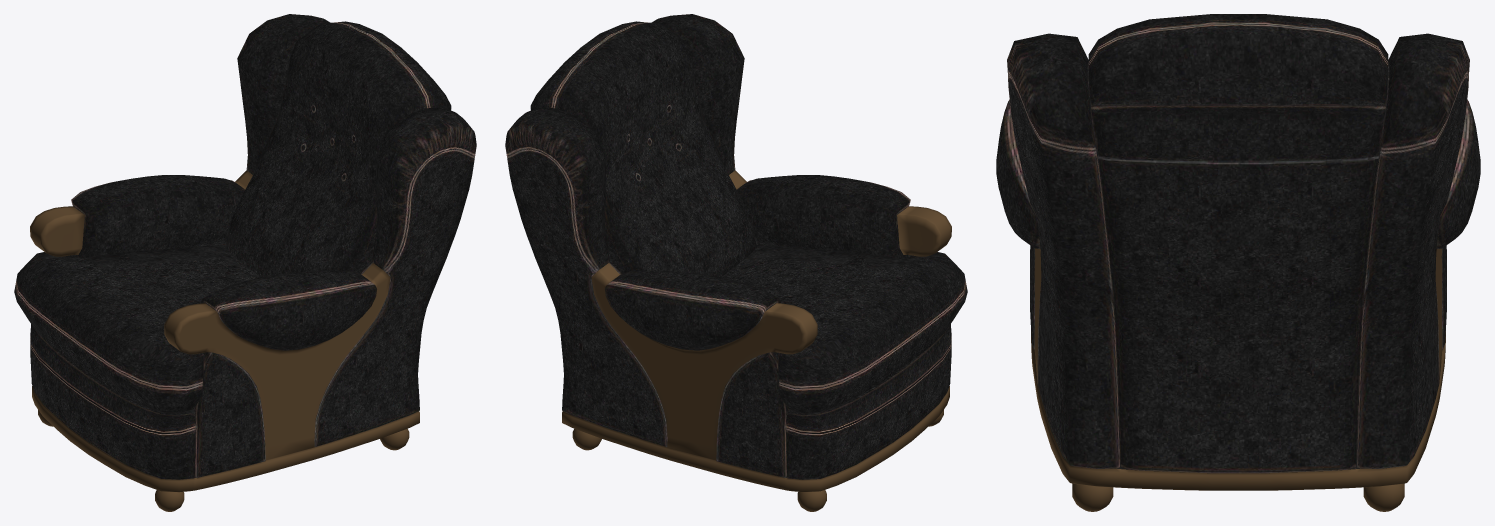
File: BlackChair.glb
The picture shows the model from 3 angles, left to right: view 1: azimuth 30°, elevation 25°; view 2: azimuth 150°, elevation 25°; view 3: azimuth 270°, elevation 25°; orthographic projection. The views are drawn at different scales.
Visible parts, largest first — view 1: armchair_classic_ch_models_armchair_classic_ch_models_01; view 2: armchair_classic_ch_models_armchair_classic_ch_models_01; view 3: armchair_classic_ch_models_armchair_classic_ch_models_01.
Boxes of the visible parts, x1=… form: armchair_classic_ch_models_armchair_classic_ch_models_01: x1=14, y1=14, x2=476, y2=511; armchair_classic_ch_models_armchair_classic_ch_models_01: x1=505, y1=14, x2=967, y2=511; armchair_classic_ch_models_armchair_classic_ch_models_01: x1=996, y1=14, x2=1480, y2=511.
Size of the model in its own units: 0.9352 by 0.941 by 0.8082.
Materials: 2 (1 with a texture image).
